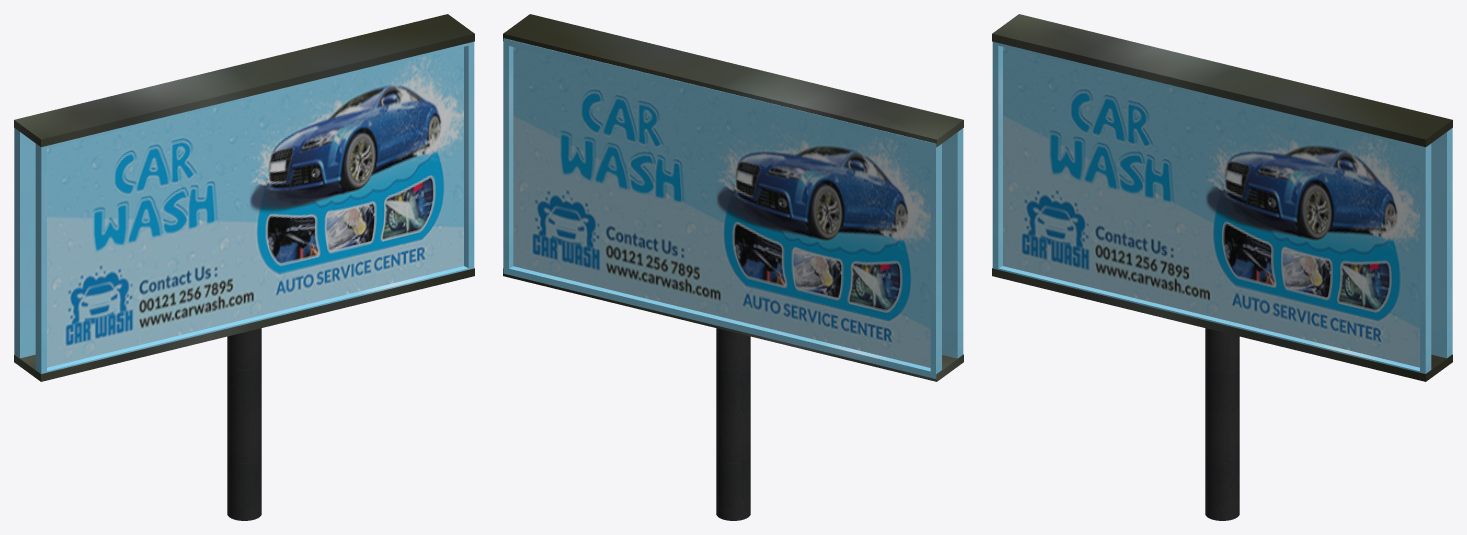
The model's file is Car Billboard.fbx.
3 views of the same model, side by side, from view 1: azimuth 30°, elevation 25°; view 2: azimuth 150°, elevation 25°; view 3: azimuth 330°, elevation 25° (orthographic).
Parts seen in each view (by area): view 1: Cube.017, Cube.019, Cylinder.009; view 2: Cube.017, Cube.019, Cylinder.009; view 3: Cube.017, Cube.019, Cylinder.009.
Part boxes in pixels (x1,y1,x2,y2): Cube.017: (14,41,474,373); Cube.019: (14,14,474,381); Cylinder.009: (227,328,261,520); Cube.017: (503,38,963,378); Cube.019: (503,14,963,381); Cylinder.009: (716,328,750,520); Cube.017: (992,41,1452,373); Cube.019: (992,14,1452,381); Cylinder.009: (1205,328,1239,520).
Size of the model in its own units: 1449 by 1394 by 157.
